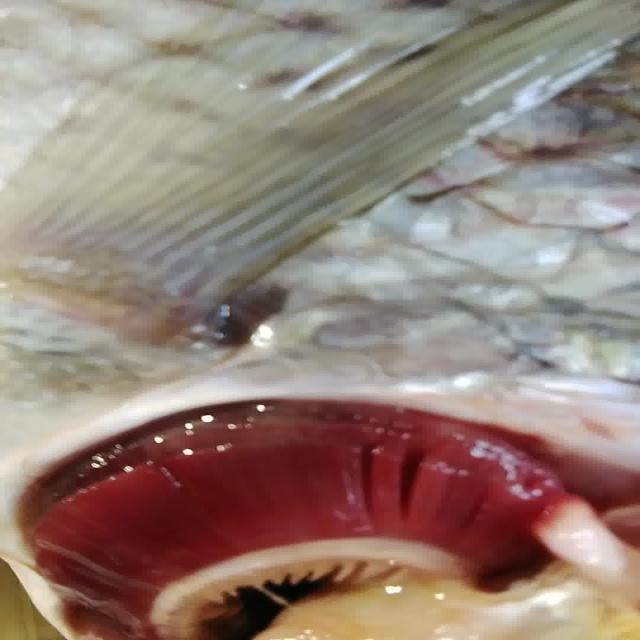Fresh: (12, 389, 624, 640)
